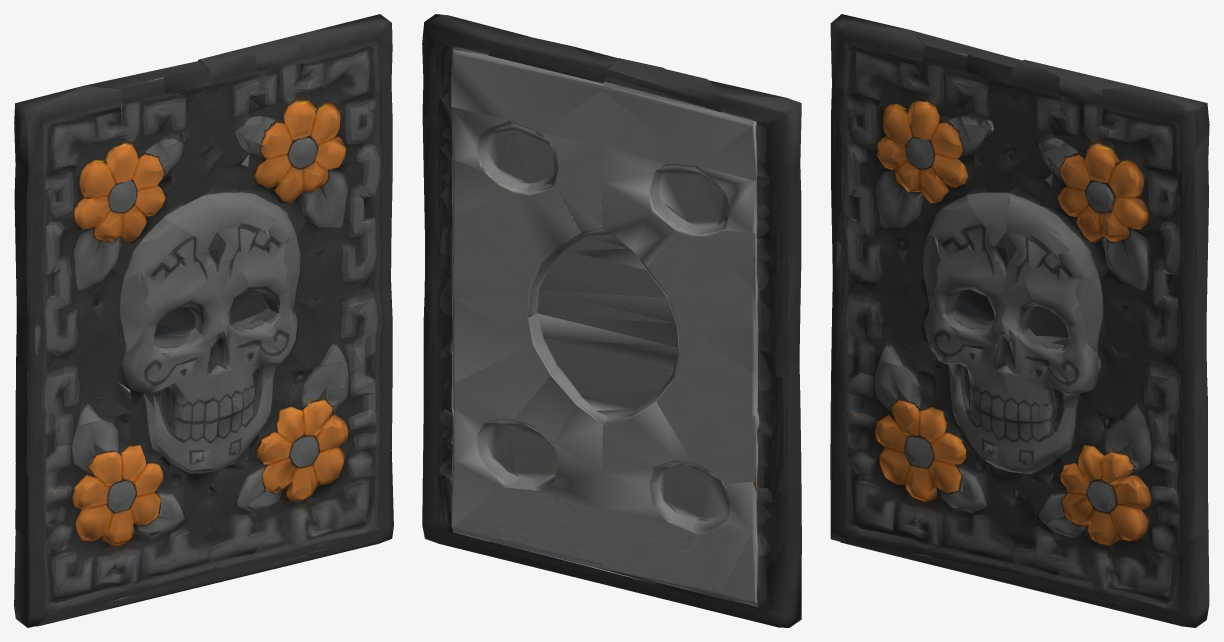
The model's file is clay_wall_panel.glb.
3 renders of one model, left to right at view 1: azimuth 30°, elevation 25°; view 2: azimuth 150°, elevation 25°; view 3: azimuth 330°, elevation 25°, orthographic.
Visible parts, largest first — view 1: clay_wall_panel; view 2: clay_wall_panel; view 3: clay_wall_panel.
Part boxes in pixels (bbox=[...]): clay_wall_panel: bbox=[14, 14, 393, 627]; clay_wall_panel: bbox=[422, 14, 801, 627]; clay_wall_panel: bbox=[830, 14, 1209, 627].
Size of the model in its own units: 2 by 2.7 by 0.2516.
1 material, 1 textured.
